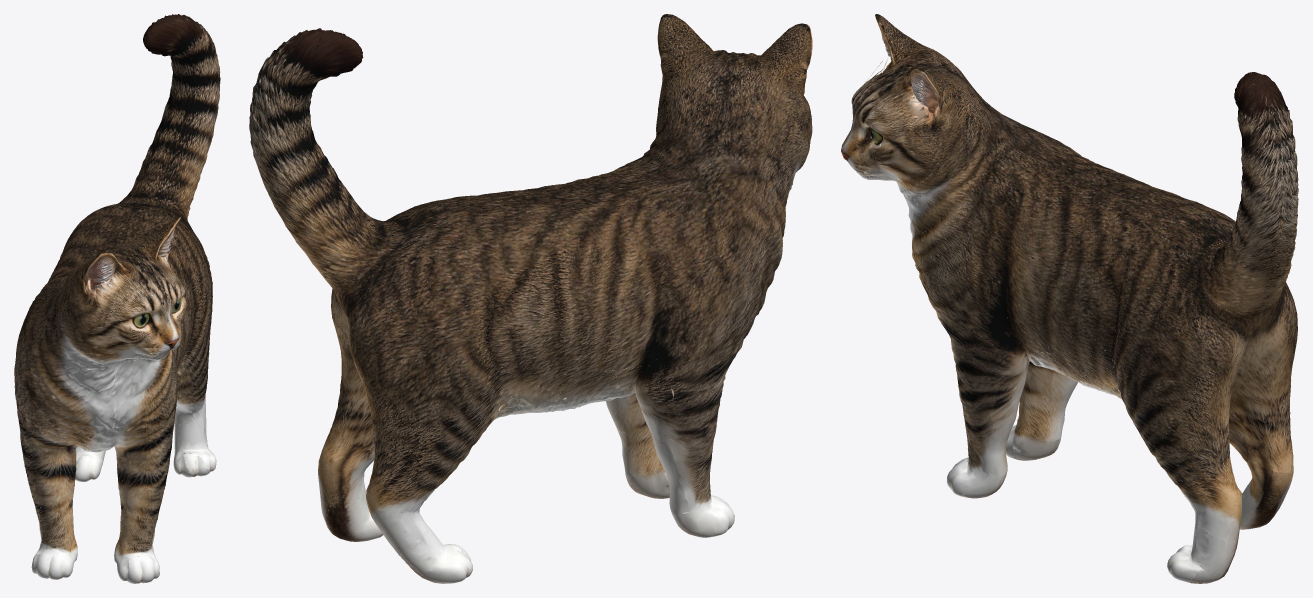
The model's file is tabby-web.glb.
3 views of the same model, side by side, from view 1: azimuth 30°, elevation 25°; view 2: azimuth 150°, elevation 25°; view 3: azimuth 270°, elevation 25° (orthographic). The views are drawn at different scales.
Parts seen in each view (by area): view 1: CC0TabbySurface; view 2: CC0TabbySurface; view 3: CC0TabbySurface.
Boxes of the visible parts, <box> form: CC0TabbySurface: <box>14,14,220,583</box>; CC0TabbySurface: <box>249,14,812,583</box>; CC0TabbySurface: <box>841,14,1298,583</box>.
Size of the model in its own units: 1.12 by 1.5 by 1.24.
Materials: 1 (1 with a texture image).
